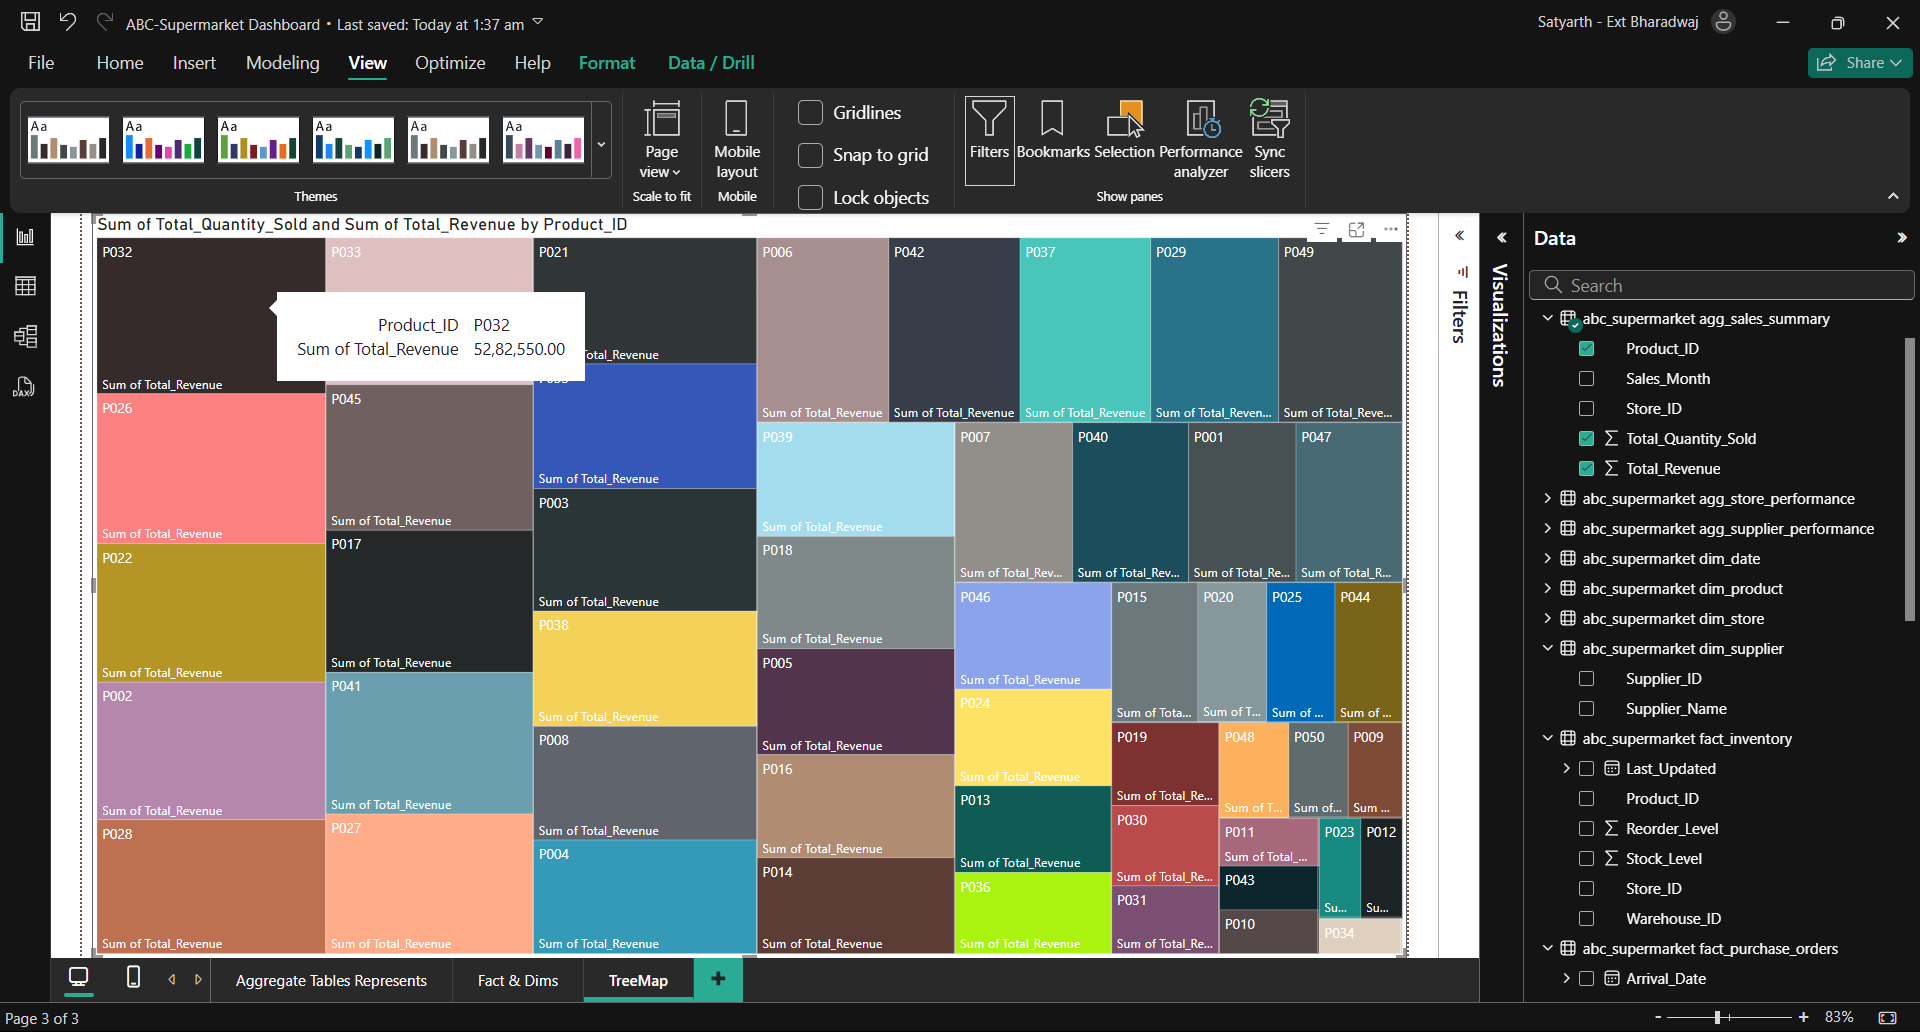

Layout of this report page (visuals, bound fields, positions):
{"tool":"powerbi","page":{"name":"TreeMap","canvas":[1280,720],"ordinal":2},"visuals":[{"type":"treemap","fields":{"Values":["Sum(abc_supermarket agg_sales_summary.Total_Quantity_Sold)","Sum(abc_supermarket agg_sales_summary.Total_Revenue)"],"Group":["abc_supermarket agg_sales_summary.Product_ID"]},"box":[9.6,0,1270.7,720.4],"z":0}]}

Visuals, with their boxes on the page's 1280x720 design canvas (x1, y1, x2, y2). These are canvas units, not pixel positions in the 1920x1032 screenshot, which may show the page scaled, cropped or inside an application window:
treemap - Sum(abc_supermarket agg_sales_summary.Total_Quantity_Sold) x Sum(abc_supermarket agg_sales_summary.Total_Revenue): x1=10 y1=0 x2=1280 y2=720
